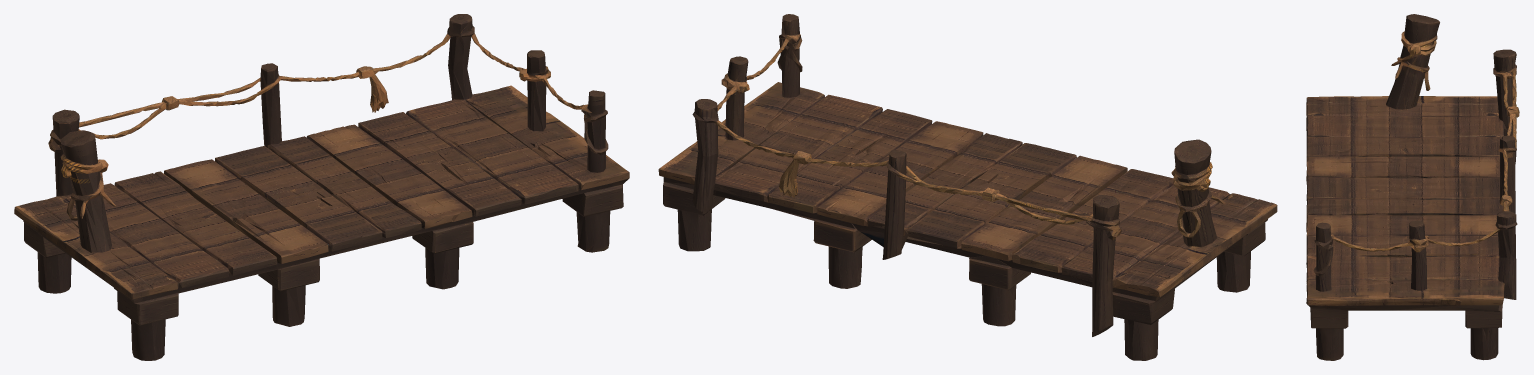
Rendered from prop_dock.glb.
The picture shows the model from 3 angles, left to right: view 1: azimuth 30°, elevation 25°; view 2: azimuth 150°, elevation 25°; view 3: azimuth 270°, elevation 25°; orthographic projection. The views are drawn at different scales.
Size of the model in its own units: 1.9 by 0.6655 by 0.8424.
Materials: 1 (1 with a texture image).
